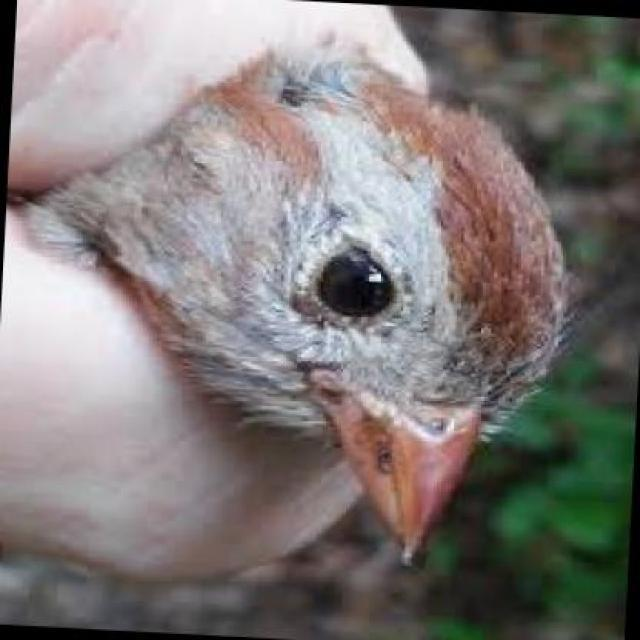Bird: (28, 47, 581, 581)
